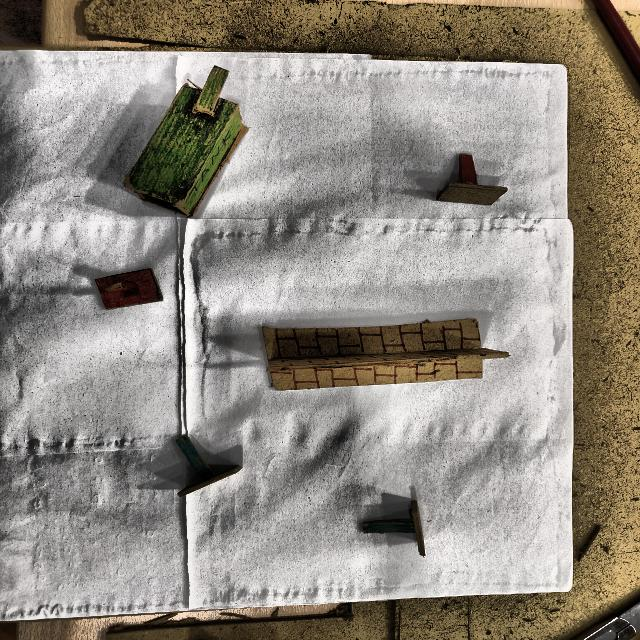Dead soldier -enemy-: (420, 151, 509, 209)
Dead soldier -frd-: (160, 420, 252, 500), (356, 495, 429, 558)
Tank: (122, 65, 249, 221)
Wall: (260, 318, 505, 392)
enemy: (93, 268, 165, 312)
